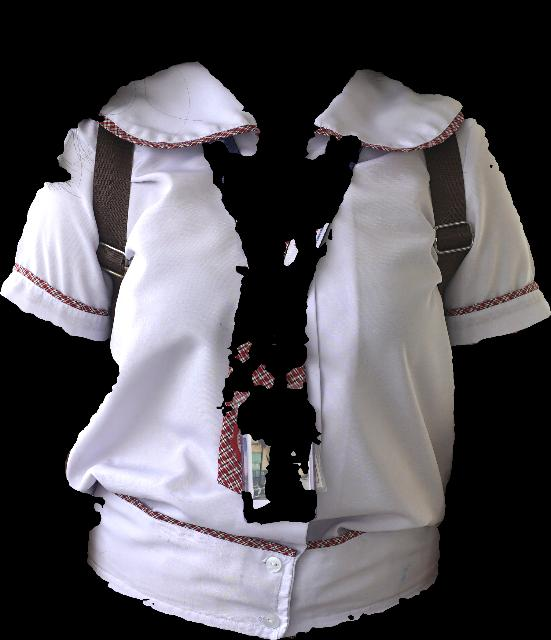pologirl: (0, 62, 550, 639)
